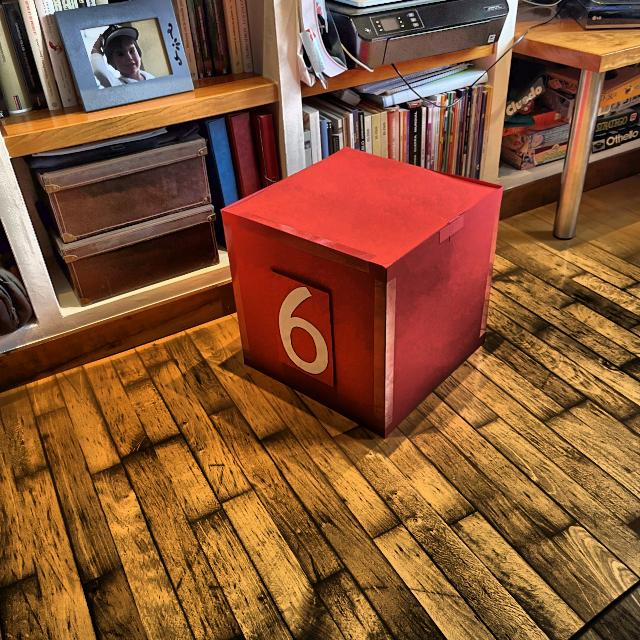red box: (223, 148, 490, 439)
six: (277, 284, 330, 376)
